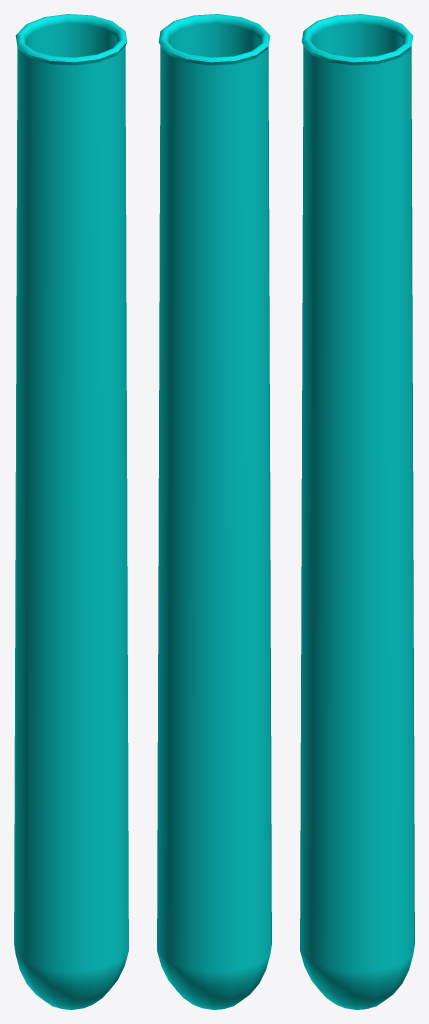
The picture shows the model from 3 angles, left to right: view 1: azimuth 30°, elevation 25°; view 2: azimuth 150°, elevation 25°; view 3: azimuth 330°, elevation 25°; orthographic projection.
Parts seen in each view (by area): view 1: Test_tube4; view 2: Test_tube4; view 3: Test_tube4.
Part boxes in pixels (x1,y1,x2,y2): Test_tube4: (14, 14, 128, 1009); Test_tube4: (157, 14, 271, 1009); Test_tube4: (300, 14, 414, 1009).
Size of what is drawn, in the model's own units: 1.6 by 15 by 1.6.
